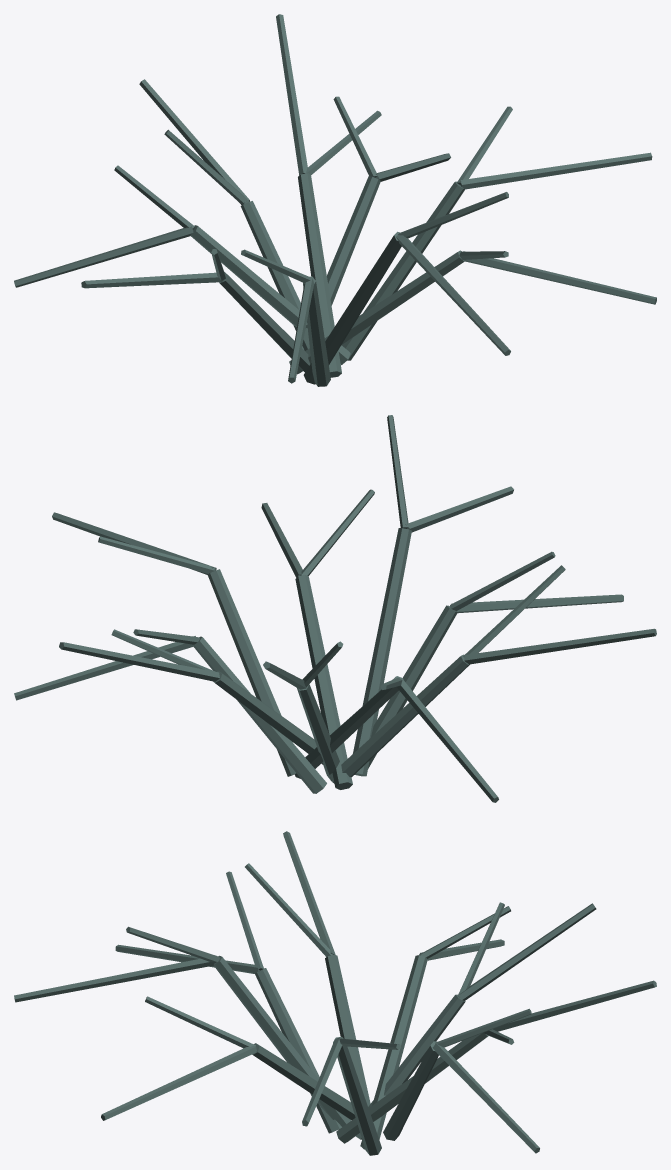
The model's file is old_klim_scrub_blue_b.glb.
3 renders of one model, top to bottom at view 1: azimuth 30°, elevation 25°; view 2: azimuth 150°, elevation 25°; view 3: azimuth 270°, elevation 25°, orthographic. The views are drawn at different scales.
Visible parts, largest first — view 1: old_klim_scrub_blue_b_old_klim_oxidised_blue_scrub_ground_de; view 2: old_klim_scrub_blue_b_old_klim_oxidised_blue_scrub_ground_de; view 3: old_klim_scrub_blue_b_old_klim_oxidised_blue_scrub_ground_de.
Boxes of the visible parts, box(x1,y1,x2,y2) form: old_klim_scrub_blue_b_old_klim_oxidised_blue_scrub_ground_de: box(14, 14, 656, 386); old_klim_scrub_blue_b_old_klim_oxidised_blue_scrub_ground_de: box(14, 415, 656, 802); old_klim_scrub_blue_b_old_klim_oxidised_blue_scrub_ground_de: box(14, 831, 656, 1155).
Bounding box in the file's own units: 1.72 × 0.7205 × 1.72.
